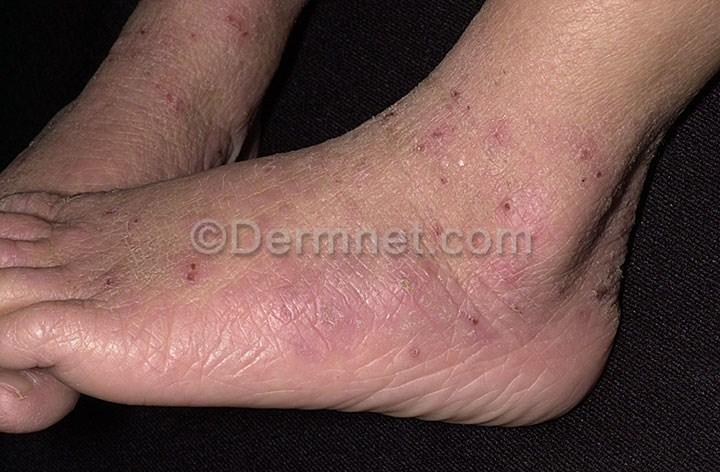eritema 1: (264, 172, 602, 366)
exudacion 1: (424, 73, 528, 324), (185, 246, 222, 288)
liquenificacion 2: (0, 189, 161, 404)
xerosis 2: (117, 163, 357, 294), (338, 85, 411, 224), (171, 64, 242, 156)
